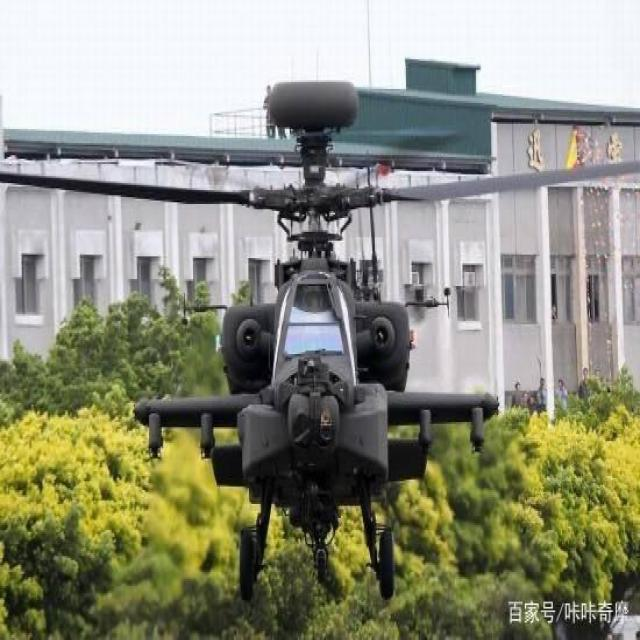MIL_HELO: (11, 75, 630, 600)
